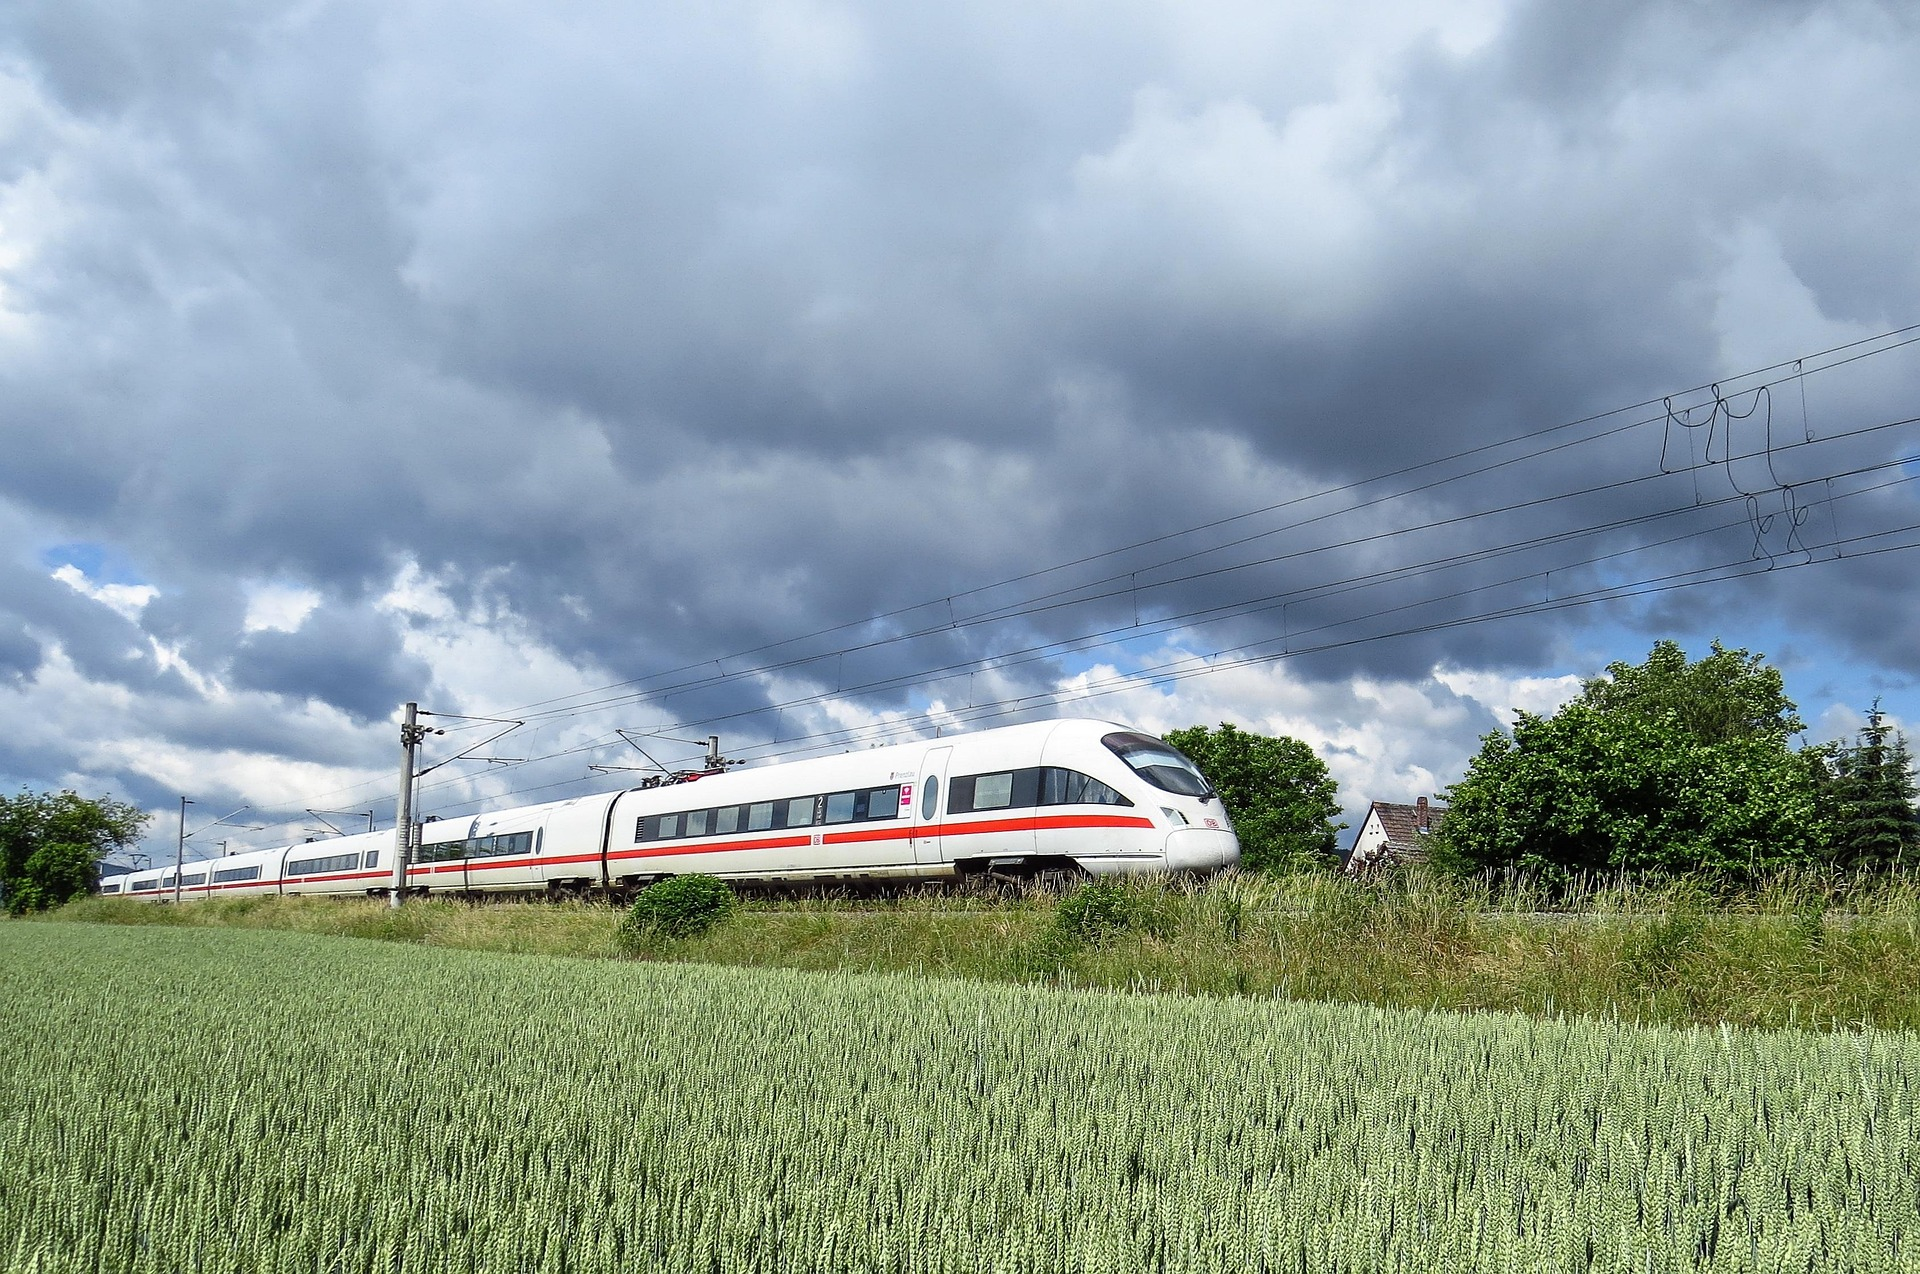train1: (115, 715, 1245, 896)
